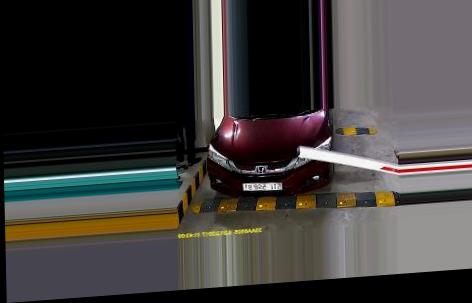License_Plate: (240, 177, 283, 194)
